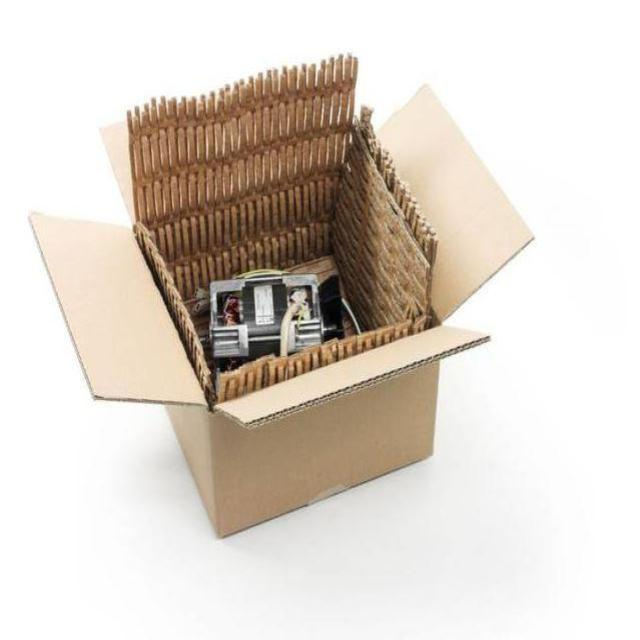cardboard: (25, 80, 533, 542)
